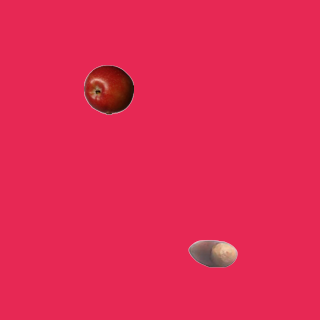Apple Braeburn: (83, 64, 133, 114)
Hazelnut: (187, 228, 237, 278)
